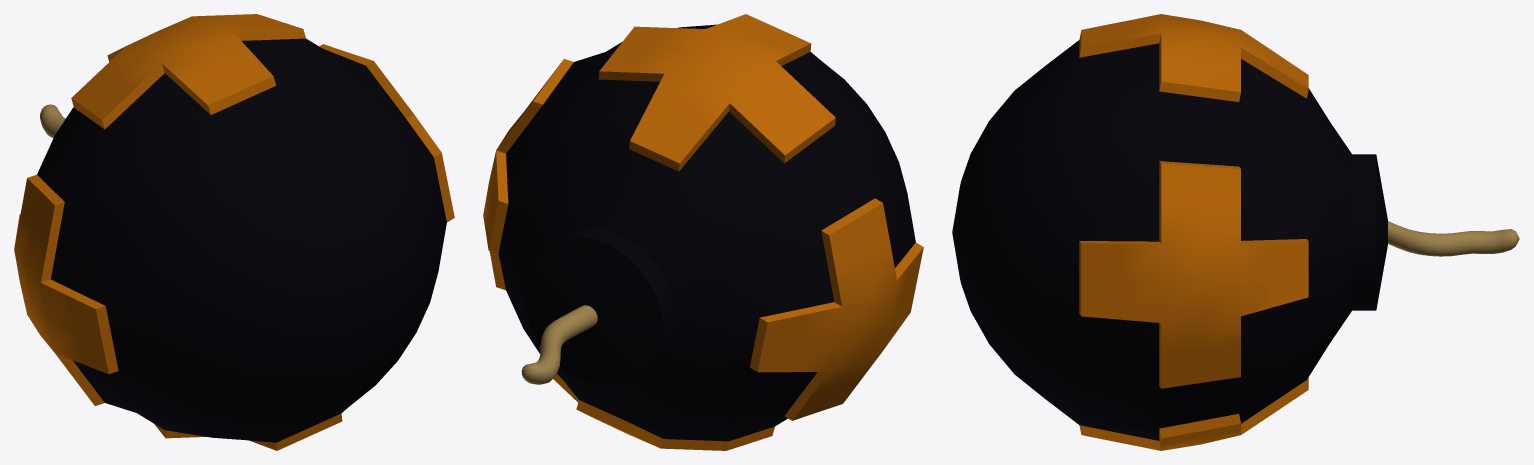
Rendered from RepusiveBomb.FBX.
3 renders of one model, left to right at view 1: azimuth 30°, elevation 25°; view 2: azimuth 150°, elevation 25°; view 3: azimuth 270°, elevation 25°, orthographic. The views are drawn at different scales.
Visible parts, largest first — view 1: AttractiveBomb; view 2: AttractiveBomb; view 3: AttractiveBomb.
Boxes of the visible parts, x1,y1,x2,y2 form: AttractiveBomb: (14,14,454,450); AttractiveBomb: (483,14,923,450); AttractiveBomb: (952,14,1519,450).
Size of the model in its own units: 20.96 by 20.96 by 27.19.
